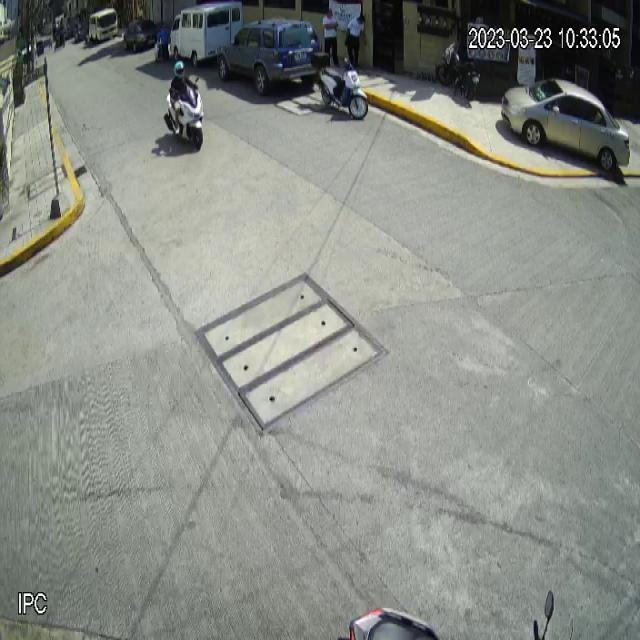Car: (501, 78, 631, 172), (216, 16, 322, 96)
Motorcycle: (311, 51, 368, 121), (163, 74, 204, 151)
Van: (169, 0, 243, 67)
